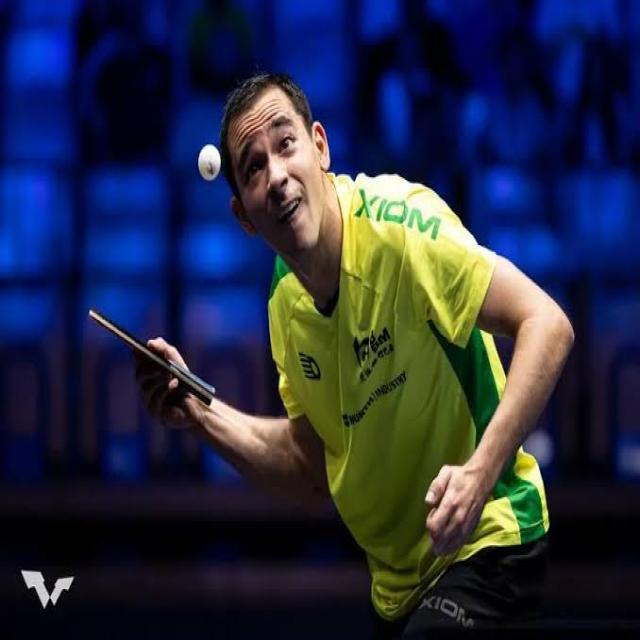TT Racket: (77, 293, 181, 384)
